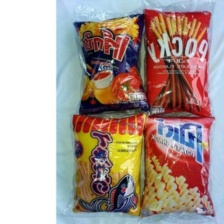snack: (66, 105, 151, 221), (68, 7, 153, 122), (134, 111, 221, 220), (139, 6, 218, 121)
